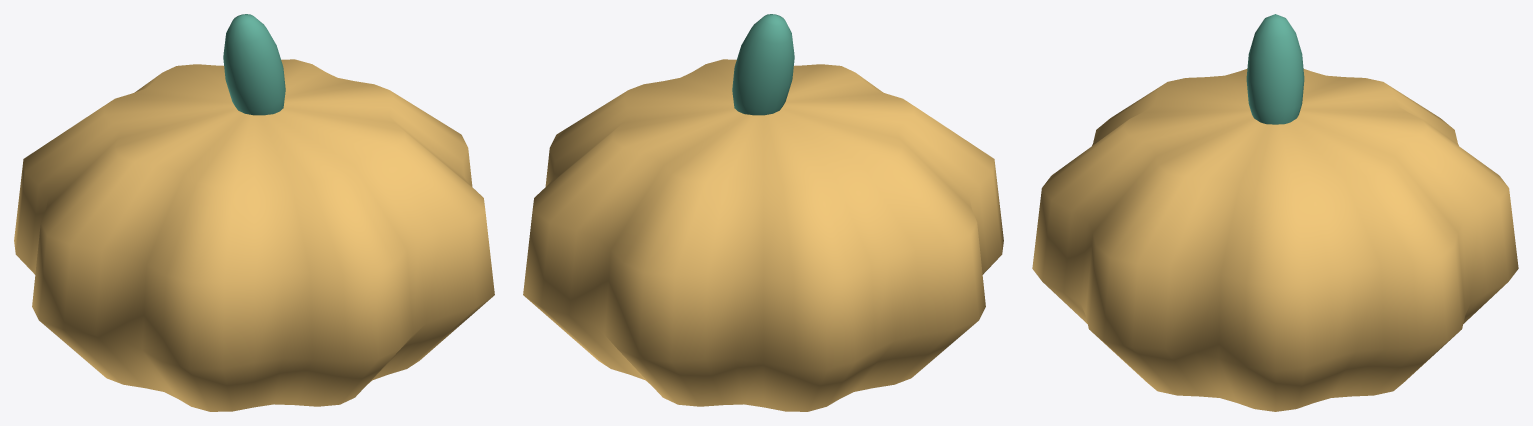
Rendered from kabocha.glb.
3 renders of one model, left to right at view 1: azimuth 30°, elevation 25°; view 2: azimuth 150°, elevation 25°; view 3: azimuth 270°, elevation 25°, orthographic. The views are drawn at different scales.
Parts seen in each view (by area): view 1: kabocha; view 2: kabocha; view 3: kabocha.
Part boxes in pixels (x1=…): kabocha: x1=14, y1=14, x2=494, y2=411; kabocha: x1=523, y1=14, x2=1003, y2=411; kabocha: x1=1032, y1=14, x2=1518, y2=411.
Bounding box in the file's own units: 1.09 × 0.867 × 1.09.
